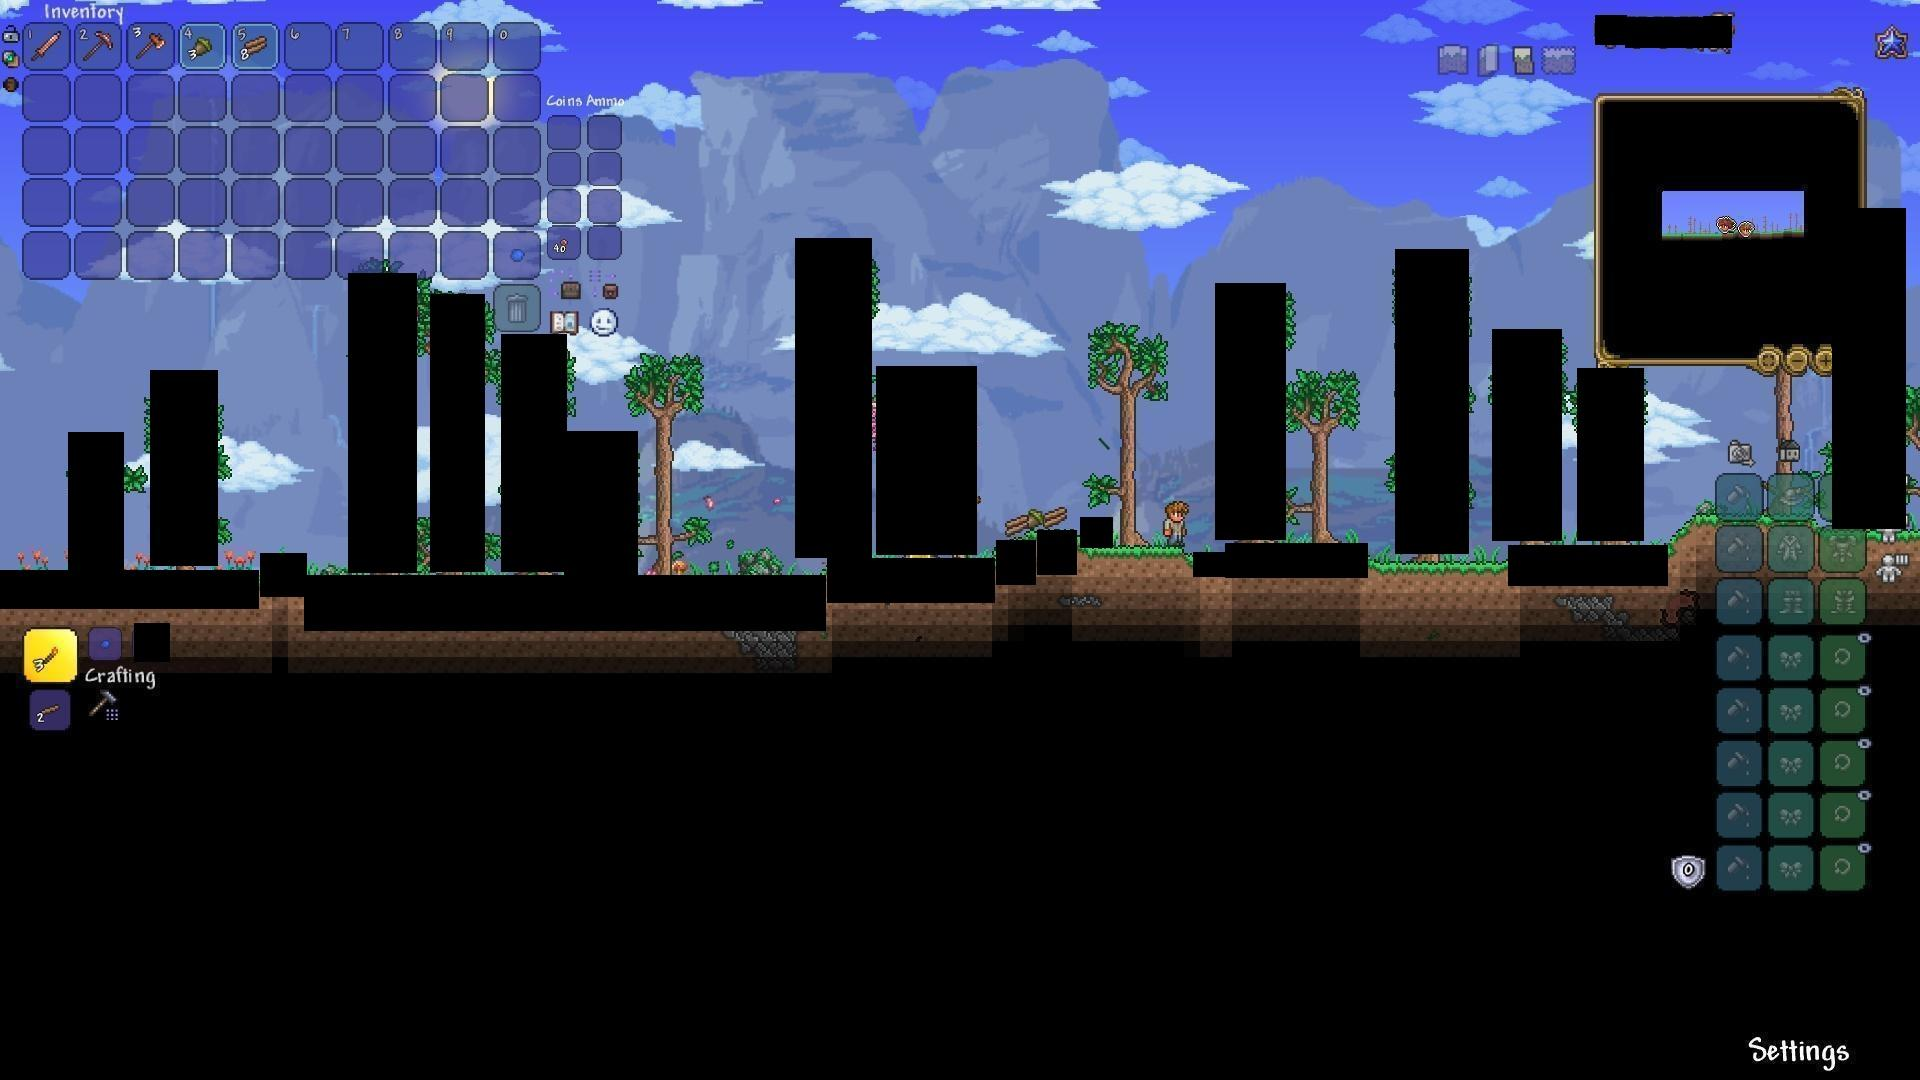dirt: (1374, 556, 1506, 589), (1087, 547, 1189, 585), (1669, 502, 1712, 554)
tree: (1284, 363, 1365, 541), (640, 348, 700, 576), (1096, 311, 1156, 522)
wood: (1040, 498, 1072, 529), (239, 36, 272, 65), (1004, 512, 1035, 541)
